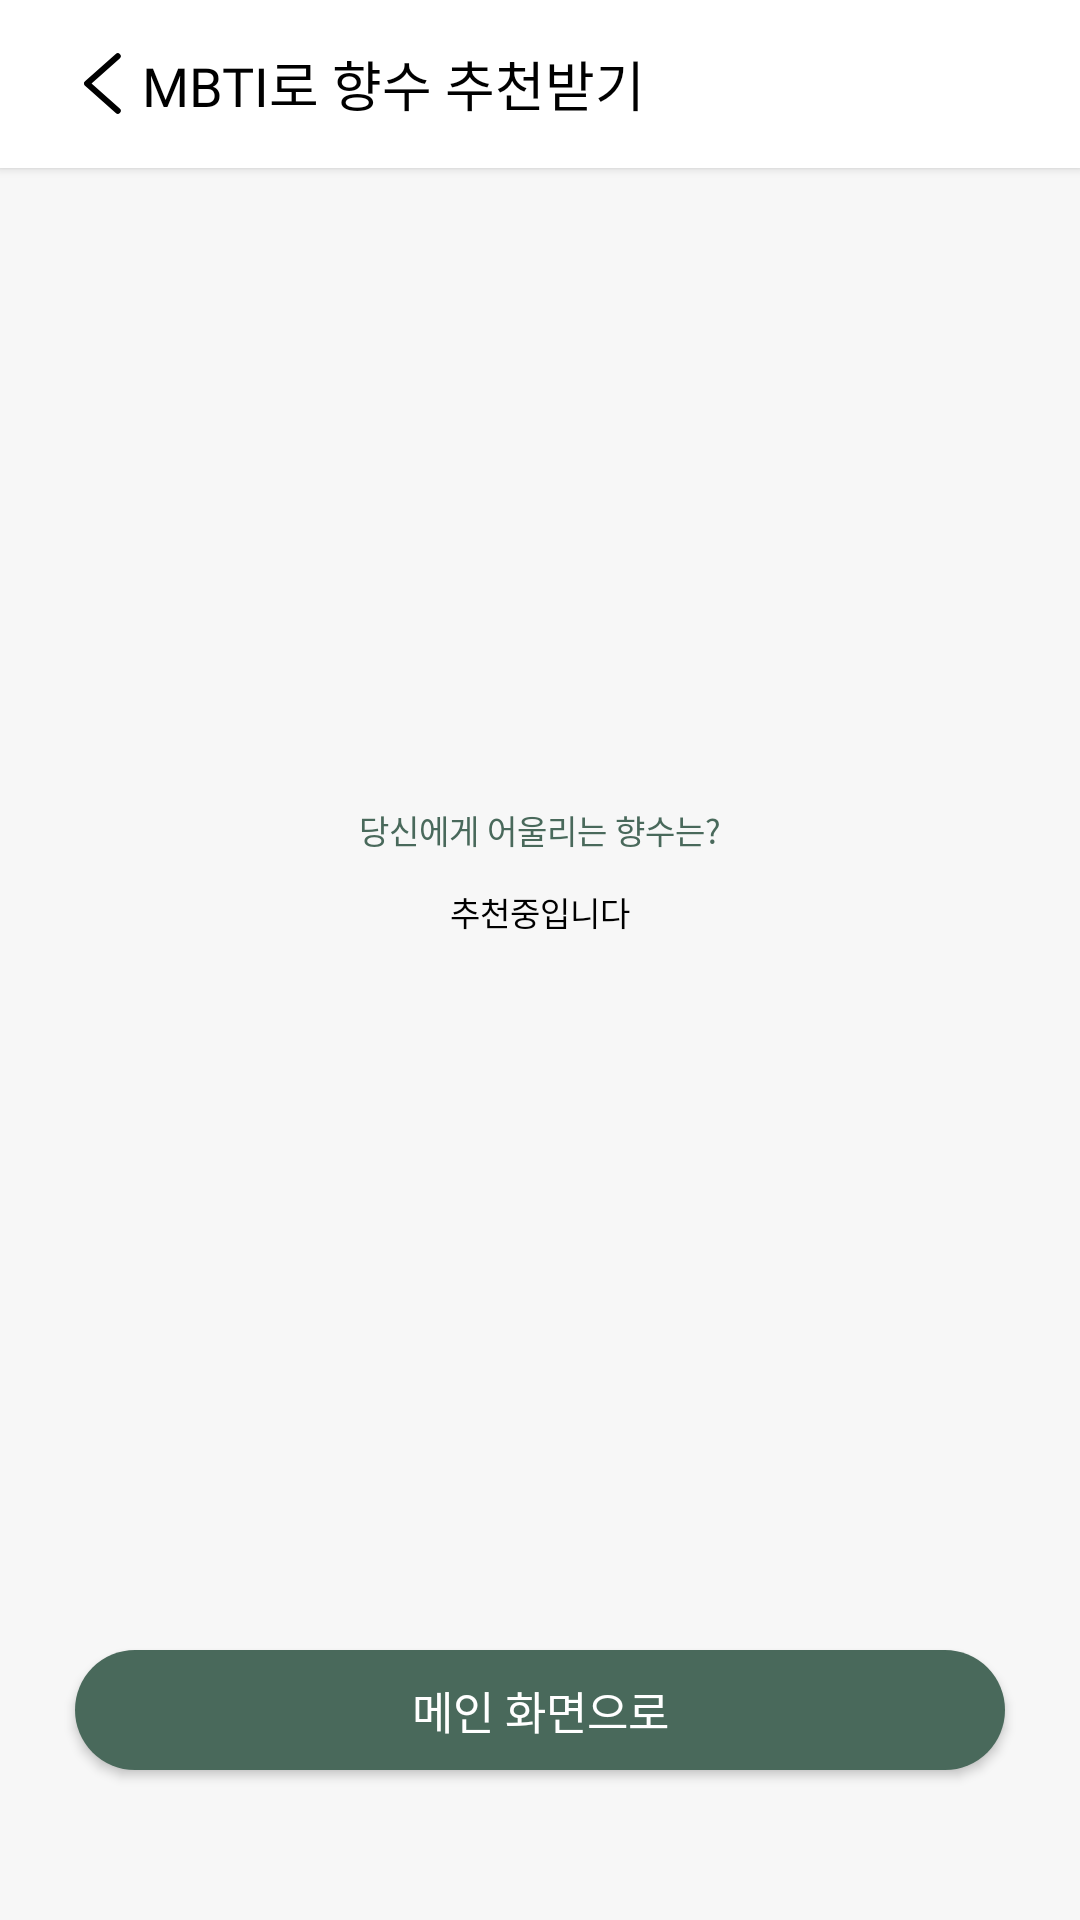

Where to tap for icons on this 1080 × 1920 app screen, as [x,y]:
back: [102,83]
